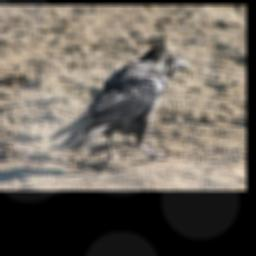Crow: (47, 44, 192, 170)
